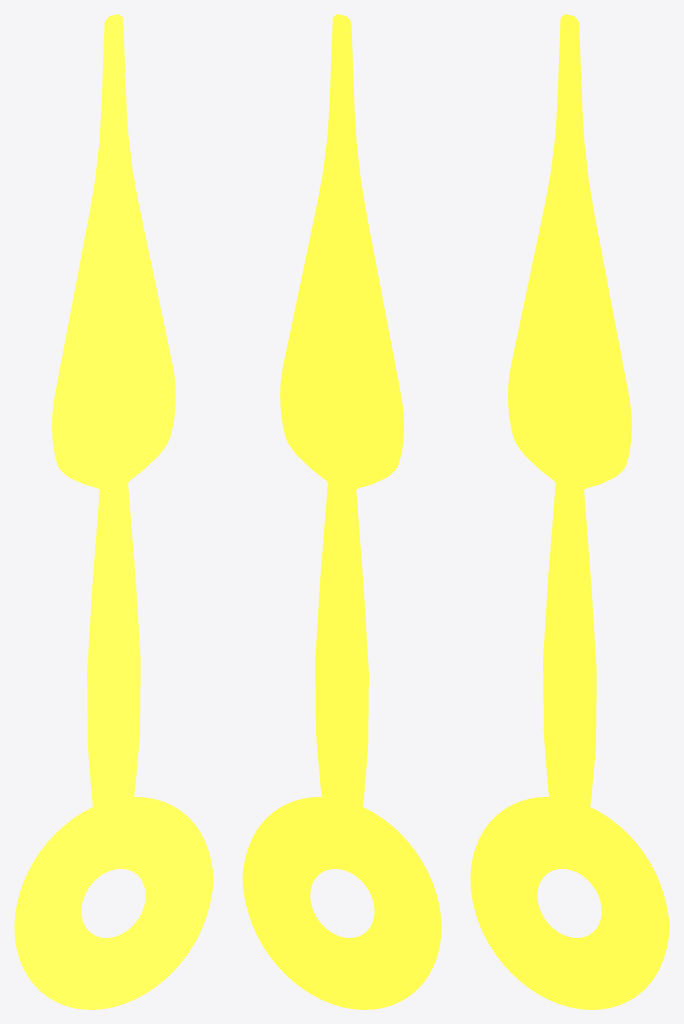
The model's file is Pointer.fbx.
The picture shows the model from 3 angles, left to right: view 1: azimuth 30°, elevation 25°; view 2: azimuth 150°, elevation 25°; view 3: azimuth 330°, elevation 25°; orthographic projection.
Visible parts, largest first — view 1: Object_6; view 2: Object_6; view 3: Object_6.
Boxes of the visible parts, <box> form: Object_6: <box>14,14,213,1009</box>; Object_6: <box>242,14,441,1009</box>; Object_6: <box>470,14,669,1009</box>.
Bounding box in the file's own units: 10.82 × 51.53 × 6.23e-06.
